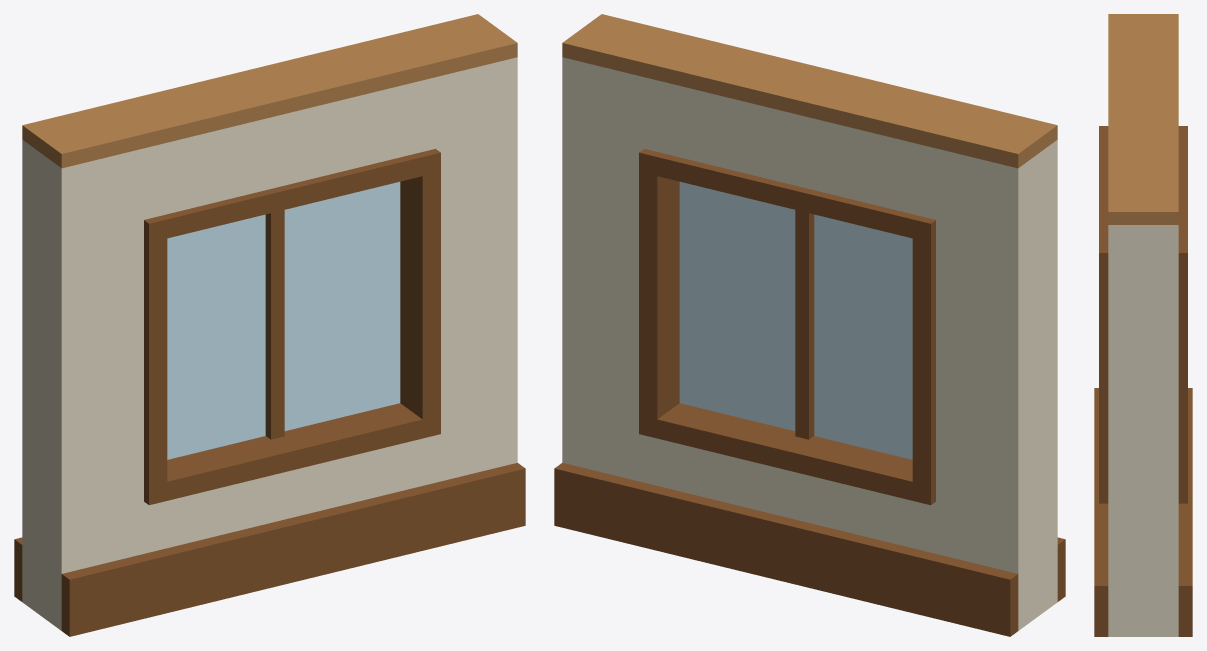
The model's file is wall-window.glb.
3 renders of one model, left to right at view 1: azimuth 30°, elevation 25°; view 2: azimuth 150°, elevation 25°; view 3: azimuth 270°, elevation 25°, orthographic. The views are drawn at different scales.
Visible parts, largest first — view 1: wall-window; view 2: wall-window; view 3: wall-window.
Boxes of the visible parts, x1,y1,x2,y2 form: wall-window: (14, 14, 525, 636); wall-window: (554, 14, 1065, 636); wall-window: (1094, 14, 1192, 636).
Bounding box in the file's own units: 1 × 1 × 0.21.
1 material, 1 textured.
